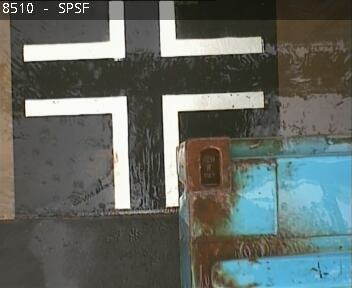groundmarker_1: (26, 90, 261, 208), (23, 1, 262, 62)
